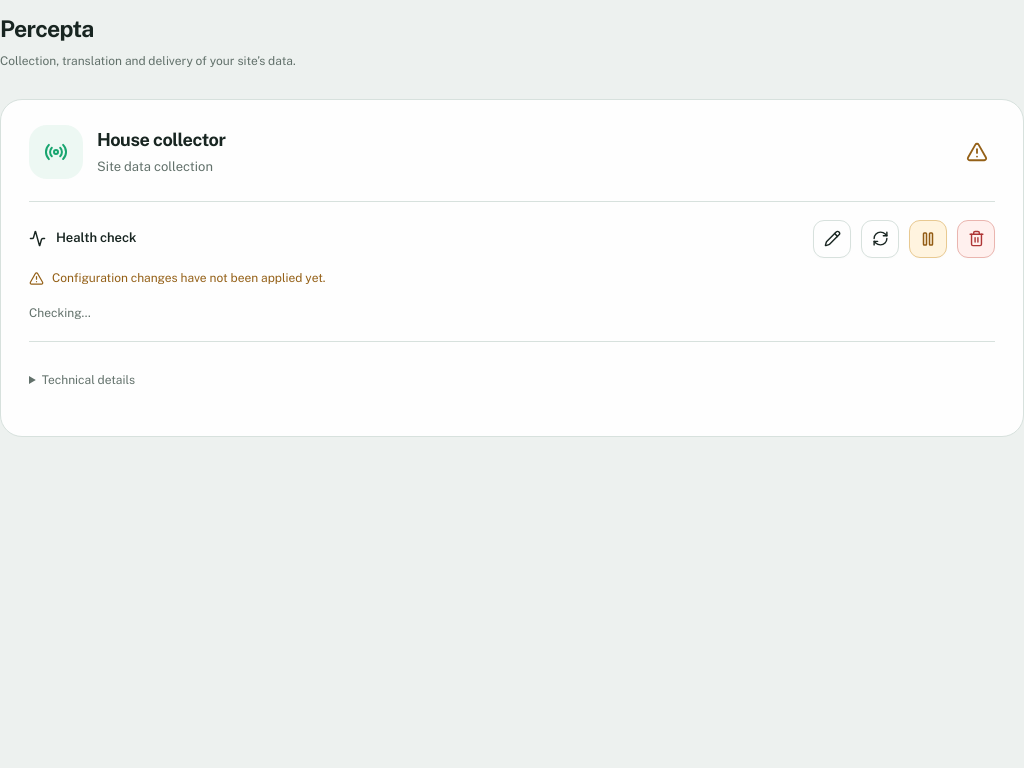
Test: keeps the confirmation open and does not remove the instance if stopping fails
Click the button named "Delete instance": [976, 239] box [957,220,995,258]
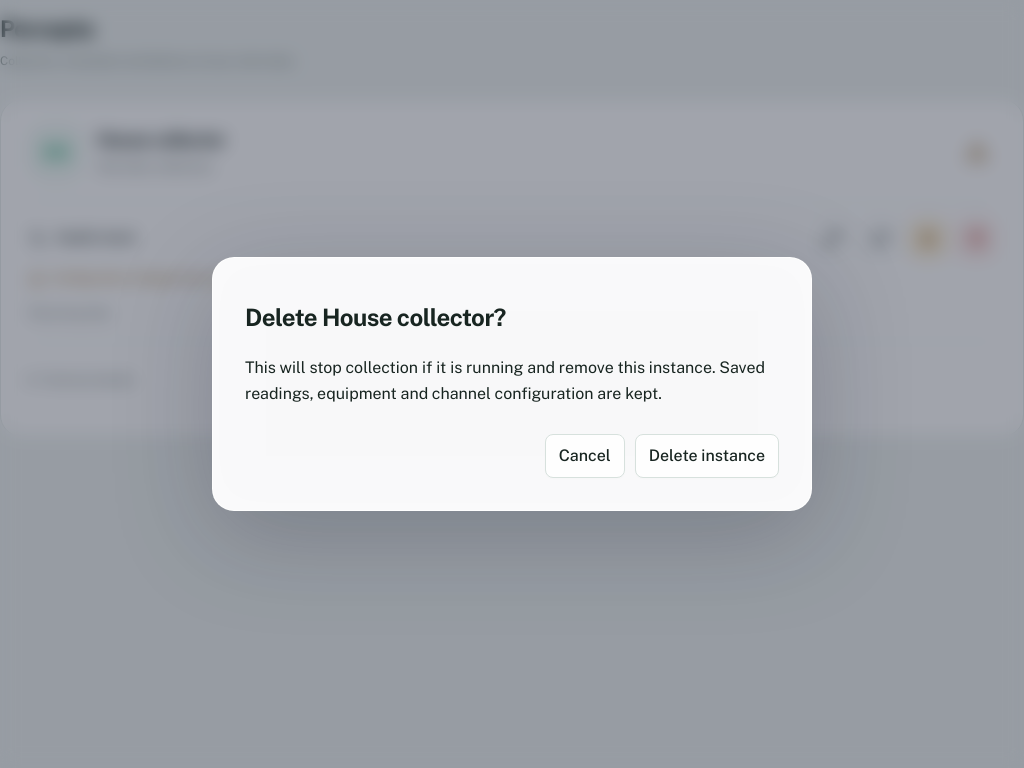
Click the button "Delete instance": [707, 456] box [635,434,779,478]
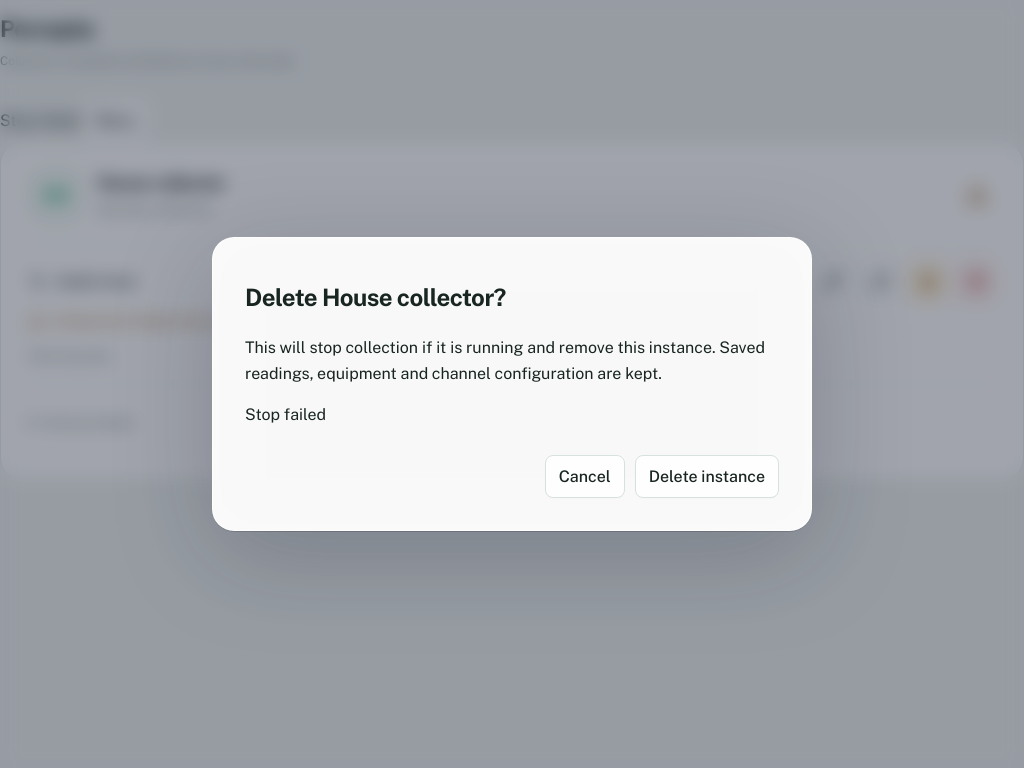
Now the message "Stop failed" is shown, box [245,405,326,424]
